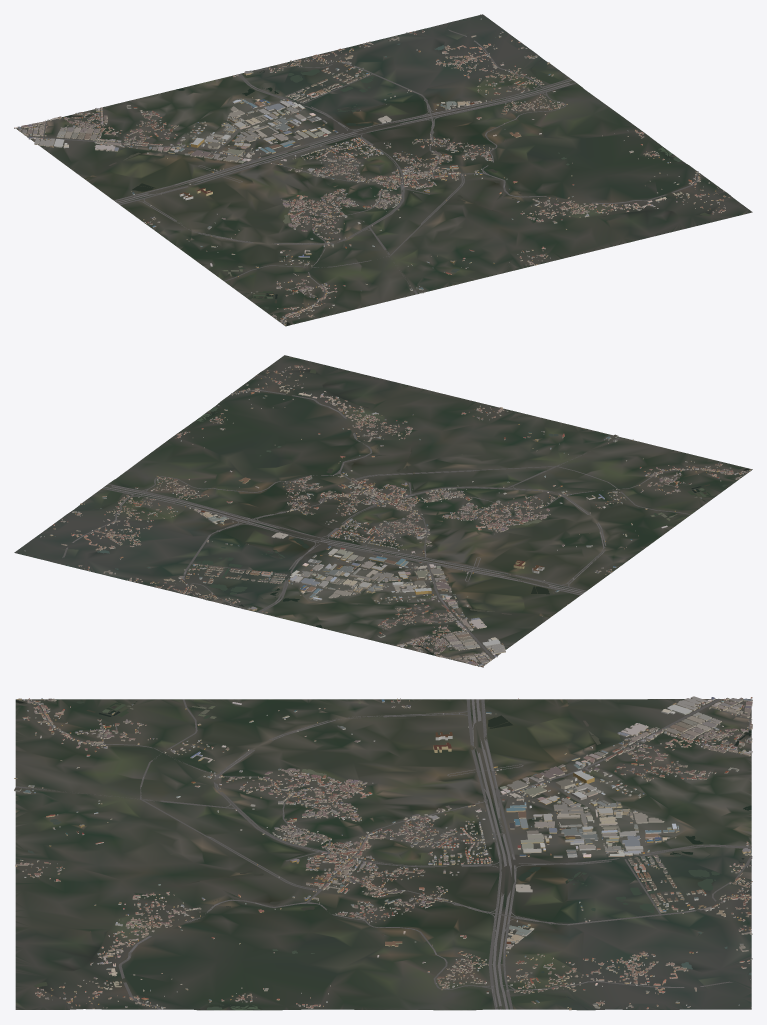
The picture shows the model from 3 angles, top to bottom: view 1: azimuth 30°, elevation 25°; view 2: azimuth 150°, elevation 25°; view 3: azimuth 270°, elevation 25°; orthographic projection. The views are drawn at different scales.
Visible parts, largest first — view 1: ground, buildings, roads, water; view 2: ground, buildings, roads, water; view 3: ground, buildings, roads, water.
Boxes of the visible parts, x1=… form: ground: x1=16, y1=14, x2=752, y2=326; buildings: x1=14, y1=14, x2=729, y2=325; roads: x1=27, y1=25, x2=700, y2=324; water: x1=62, y1=27, x2=710, y2=325; ground: x1=14, y1=355, x2=752, y2=666; buildings: x1=16, y1=365, x2=751, y2=667; roads: x1=59, y1=389, x2=750, y2=659; water: x1=54, y1=369, x2=750, y2=655; ground: x1=15, y1=699, x2=751, y2=1010; buildings: x1=14, y1=696, x2=752, y2=1010; roads: x1=15, y1=698, x2=752, y2=1009; water: x1=15, y1=700, x2=751, y2=1010.
Size of the model in its own units: 5637 by 39.91 by 5629.
